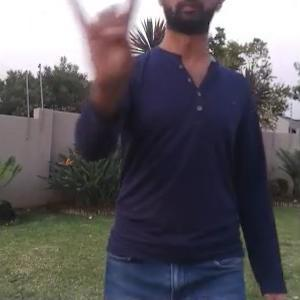takeoff-hand: (64, 0, 140, 89)
